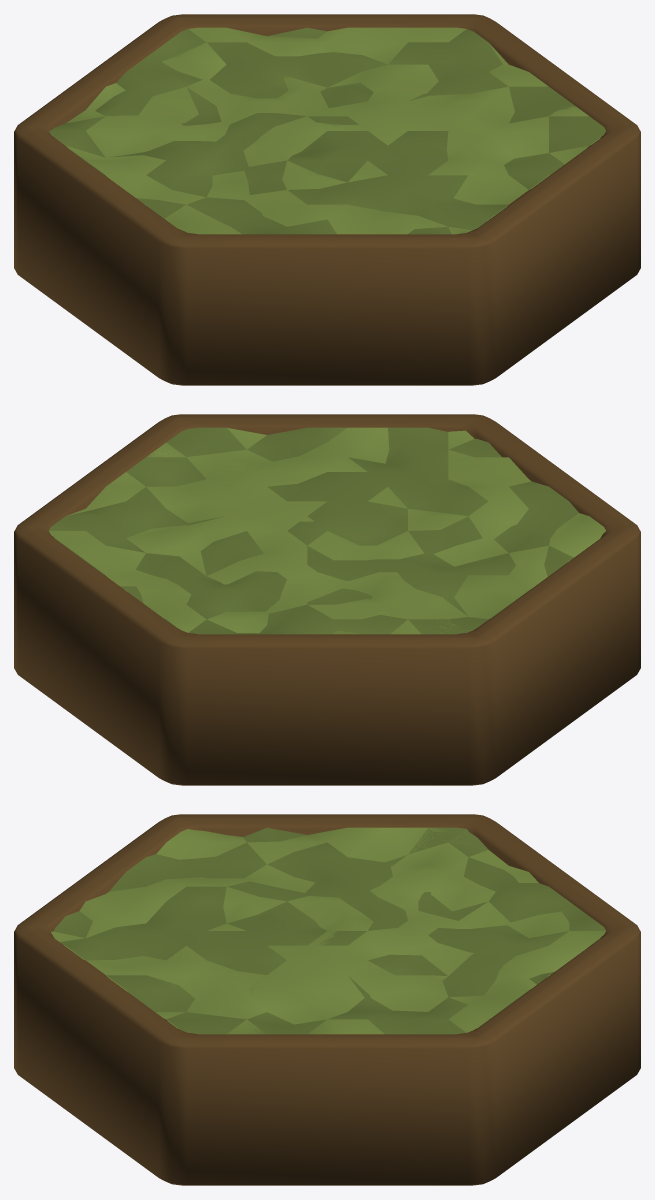
Rendered from grasshex.fbx.
3 views of the same model, one above another, from view 1: azimuth 30°, elevation 25°; view 2: azimuth 150°, elevation 25°; view 3: azimuth 270°, elevation 25° (orthographic).
Parts seen in each view (by area): view 1: Cylinder.008, Cylinder.009, Cylinder.010; view 2: Cylinder.008, Cylinder.009, Cylinder.010; view 3: Cylinder.008, Cylinder.009, Cylinder.010.
Part boxes in pixels (x1,y1,x2,y2): Cylinder.008: [14, 14, 640, 385]; Cylinder.009: [66, 27, 600, 234]; Cylinder.010: [49, 27, 605, 234]; Cylinder.008: [14, 414, 640, 785]; Cylinder.009: [49, 427, 605, 634]; Cylinder.010: [49, 427, 578, 634]; Cylinder.008: [14, 814, 640, 1185]; Cylinder.009: [51, 827, 605, 1034]; Cylinder.010: [53, 827, 605, 1034].
Size of the model in its own units: 173 by 50 by 197.
